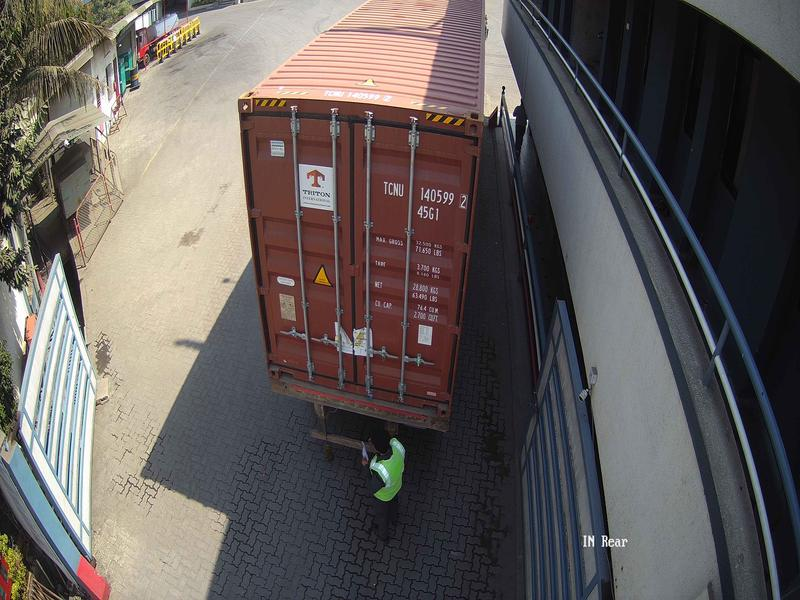container: (233, 88, 493, 429)
